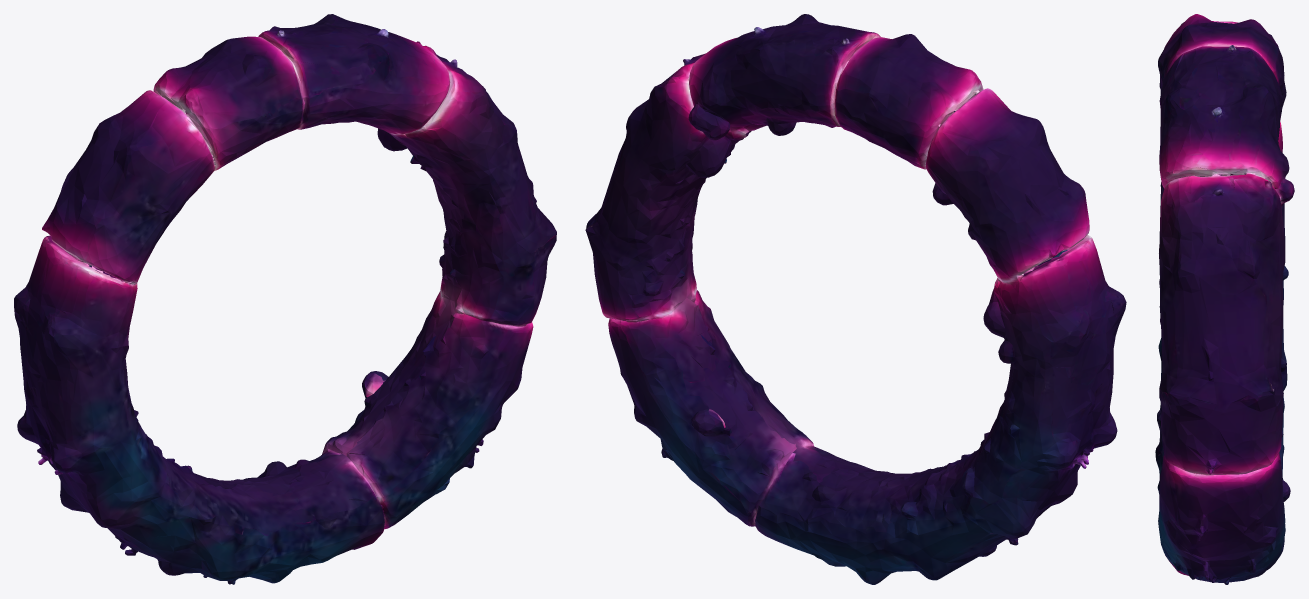
Rendered from shore-ring-generated-2026-04-19T06-22-12-051Z.low.glb.
3 views of the same model, side by side, from view 1: azimuth 30°, elevation 25°; view 2: azimuth 150°, elevation 25°; view 3: azimuth 270°, elevation 25° (orthographic). The views are drawn at different scales.
Parts seen in each view (by area): view 1: temp_mesh.ply; view 2: temp_mesh.ply; view 3: temp_mesh.ply.
Part boxes in pixels (<box>): temp_mesh.ply: <box>14,14,556,584</box>; temp_mesh.ply: <box>585,14,1126,584</box>; temp_mesh.ply: <box>1155,14,1294,584</box>.
Size of the model in its own units: 1.97 by 1.97 by 0.4787.
1 material, 1 textured.
